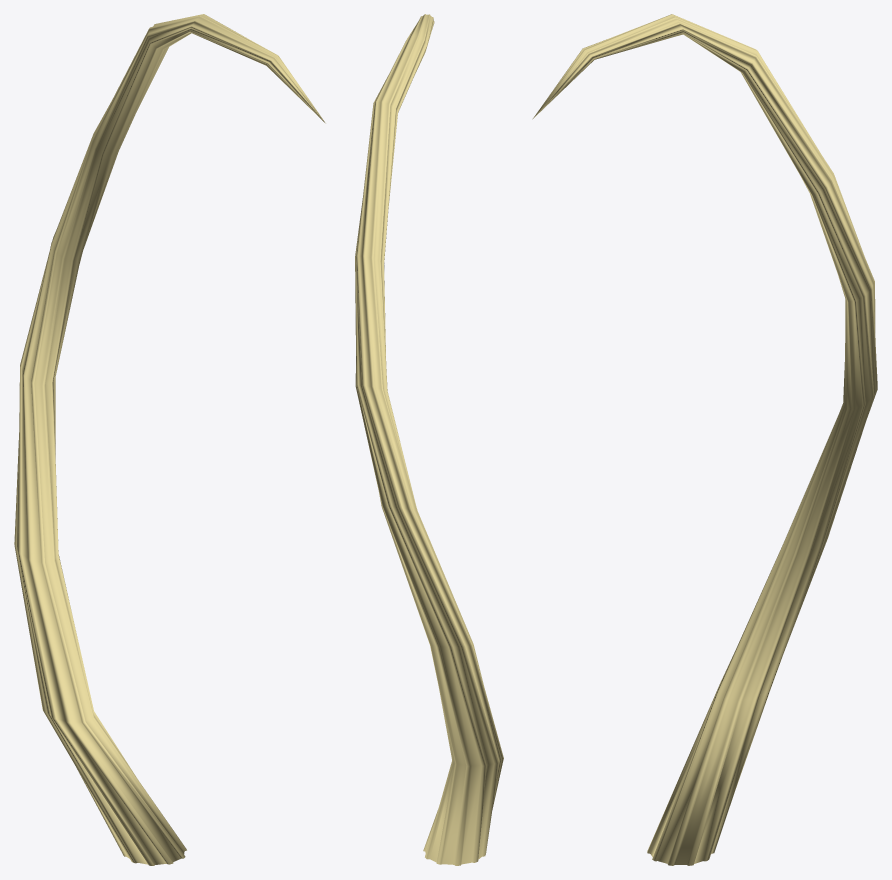
Rendered from Red Licorice Vine.obj.
3 renders of one model, left to right at view 1: azimuth 30°, elevation 25°; view 2: azimuth 150°, elevation 25°; view 3: azimuth 270°, elevation 25°, orthographic. The views are drawn at different scales.
Visible parts, largest first — view 1: Red_Licorice_Vine; view 2: Red_Licorice_Vine; view 3: Red_Licorice_Vine.
Boxes of the visible parts, x1,y1,x2,y2 form: Red_Licorice_Vine: (14, 14, 325, 865); Red_Licorice_Vine: (355, 14, 503, 865); Red_Licorice_Vine: (532, 14, 877, 865).
Bounding box in the file's own units: 16.69 × 74.16 × 27.05.
